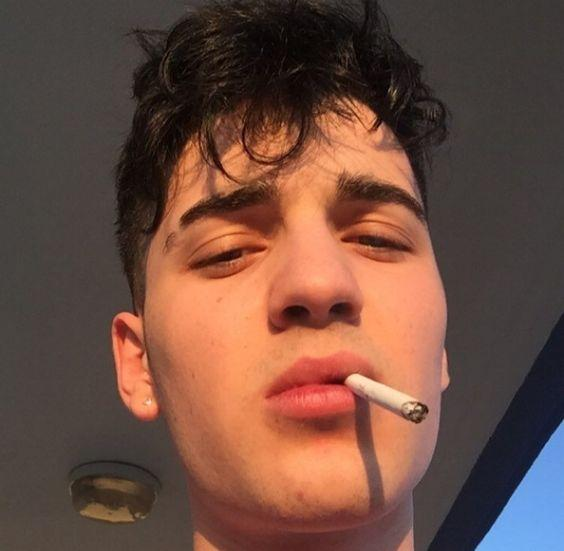cigarette: (343, 371, 429, 424)
